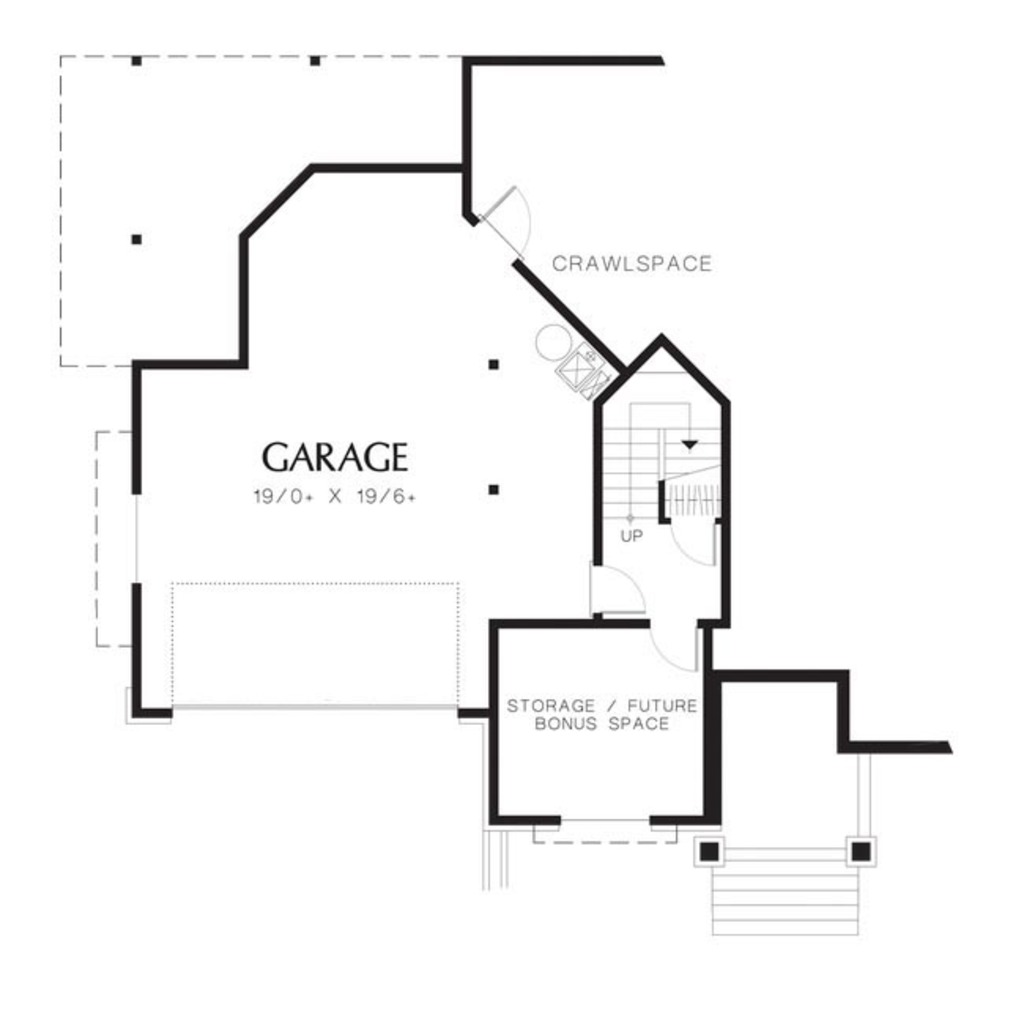door: (482, 184, 537, 261), (665, 510, 728, 575), (591, 561, 649, 613), (652, 624, 702, 681)
stairs: (603, 343, 737, 520)
